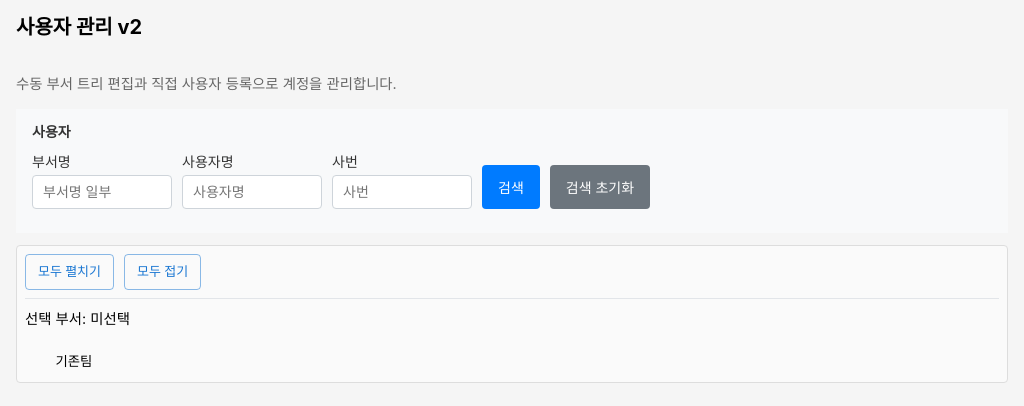
Test case: UserManagement › TC-02: 수동 부서 트리 편집 › 트리 라벨은 부서명만 표시되고 코드 접두는 보이지 않는다
Expected: the text "선택 부서: 미선택" is shown, [25, 307, 130, 328]
Click the button "기존팀".
click(74, 361)  # box [49, 348, 99, 374]
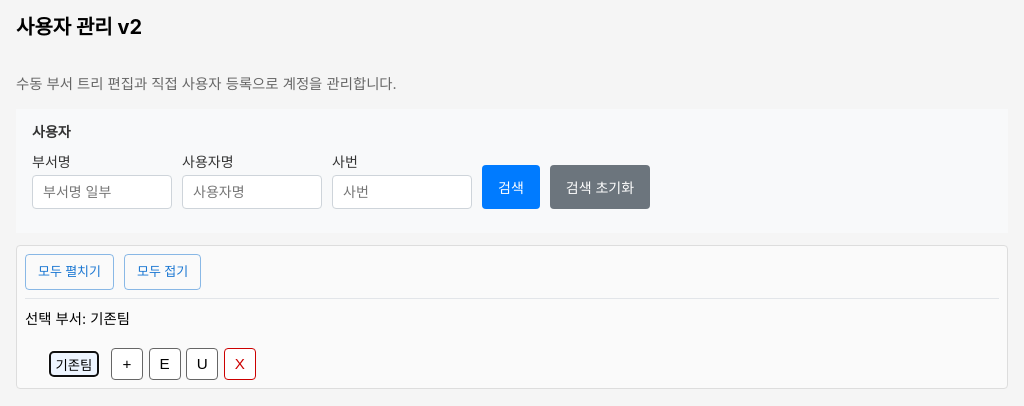
Result: the text "선택 부서: 기존팀" is shown at [25, 307, 130, 328]
